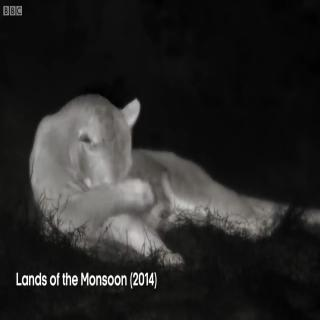Leopard: (22, 84, 299, 254)
